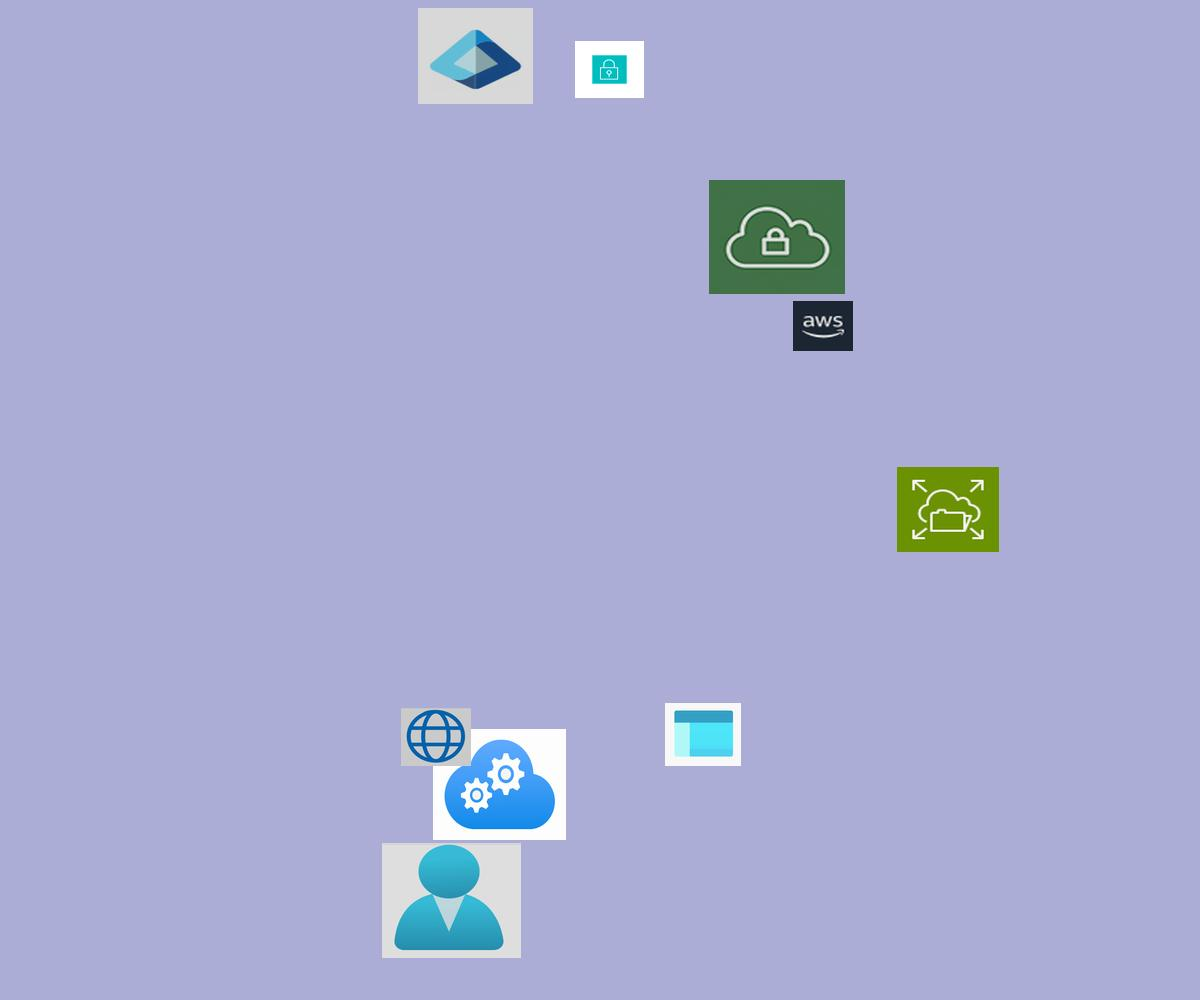AWS-Cloud-logo: (793, 301, 853, 351)
AWS-EFS: (897, 467, 999, 552)
AWS-Private-subnet: (575, 41, 644, 98)
AWS-Private_vpc: (709, 180, 845, 294)
Azure_cloud_services: (433, 729, 566, 840)
Azure_http: (401, 708, 471, 766)
Azure_management-portal: (665, 703, 741, 766)
Azure_microsoft_entra: (418, 8, 533, 104)
Azure_users: (382, 843, 521, 958)
